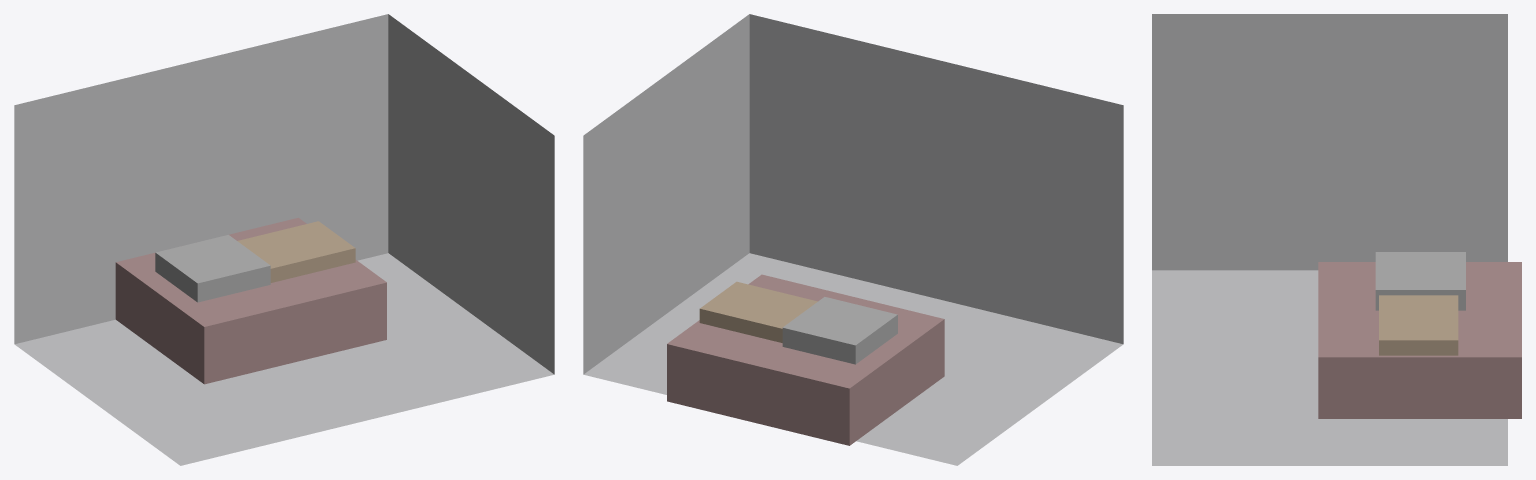
File: current_layout.glb
3 views of the same model, side by side, from view 1: azimuth 30°, elevation 25°; view 2: azimuth 150°, elevation 25°; view 3: azimuth 270°, elevation 25° (orthographic). The views are drawn at different scales.
Parts seen in each view (by area): view 1: room, bed, dustbin, desk; view 2: room, bed, dustbin, desk; view 3: room, bed, desk, dustbin.
Boxes of the visible parts, box(x1,y1,x2,y2) form: room: box(14, 14, 554, 465); bed: box(115, 217, 386, 384); dustbin: box(155, 235, 270, 302); desk: box(237, 221, 355, 282); room: box(583, 14, 1123, 465); bed: box(667, 274, 944, 445); dustbin: box(782, 297, 897, 364); desk: box(699, 281, 817, 342); room: box(1152, 14, 1507, 465); bed: box(1318, 262, 1521, 418); desk: box(1379, 295, 1458, 355); dustbin: box(1375, 252, 1465, 310).
Bounding box in the file's own units: 4.09 × 2.5 × 3.27.
